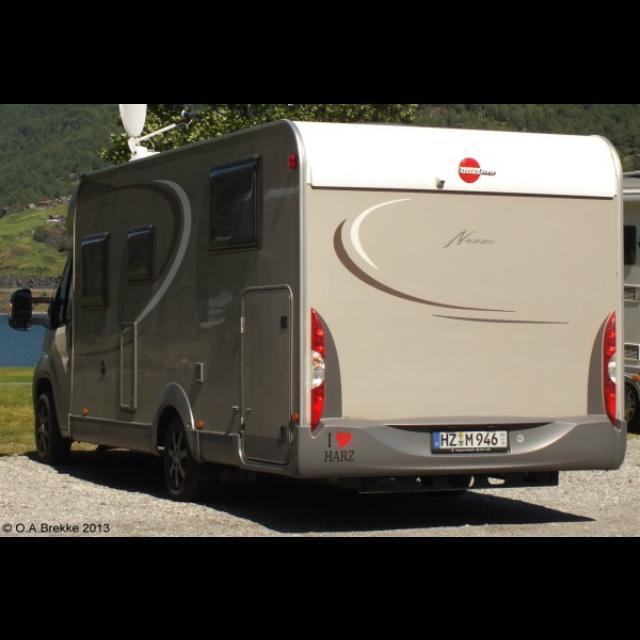license-plates: (434, 431, 509, 454)
